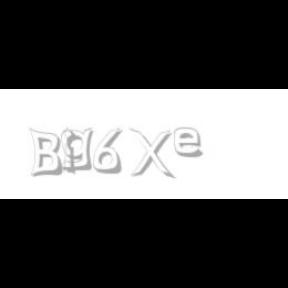6: (92, 128, 122, 176)
B: (28, 128, 62, 178)
X: (129, 128, 173, 180)
e: (174, 128, 207, 158)
g: (61, 128, 98, 171)
i: (63, 128, 79, 176)
